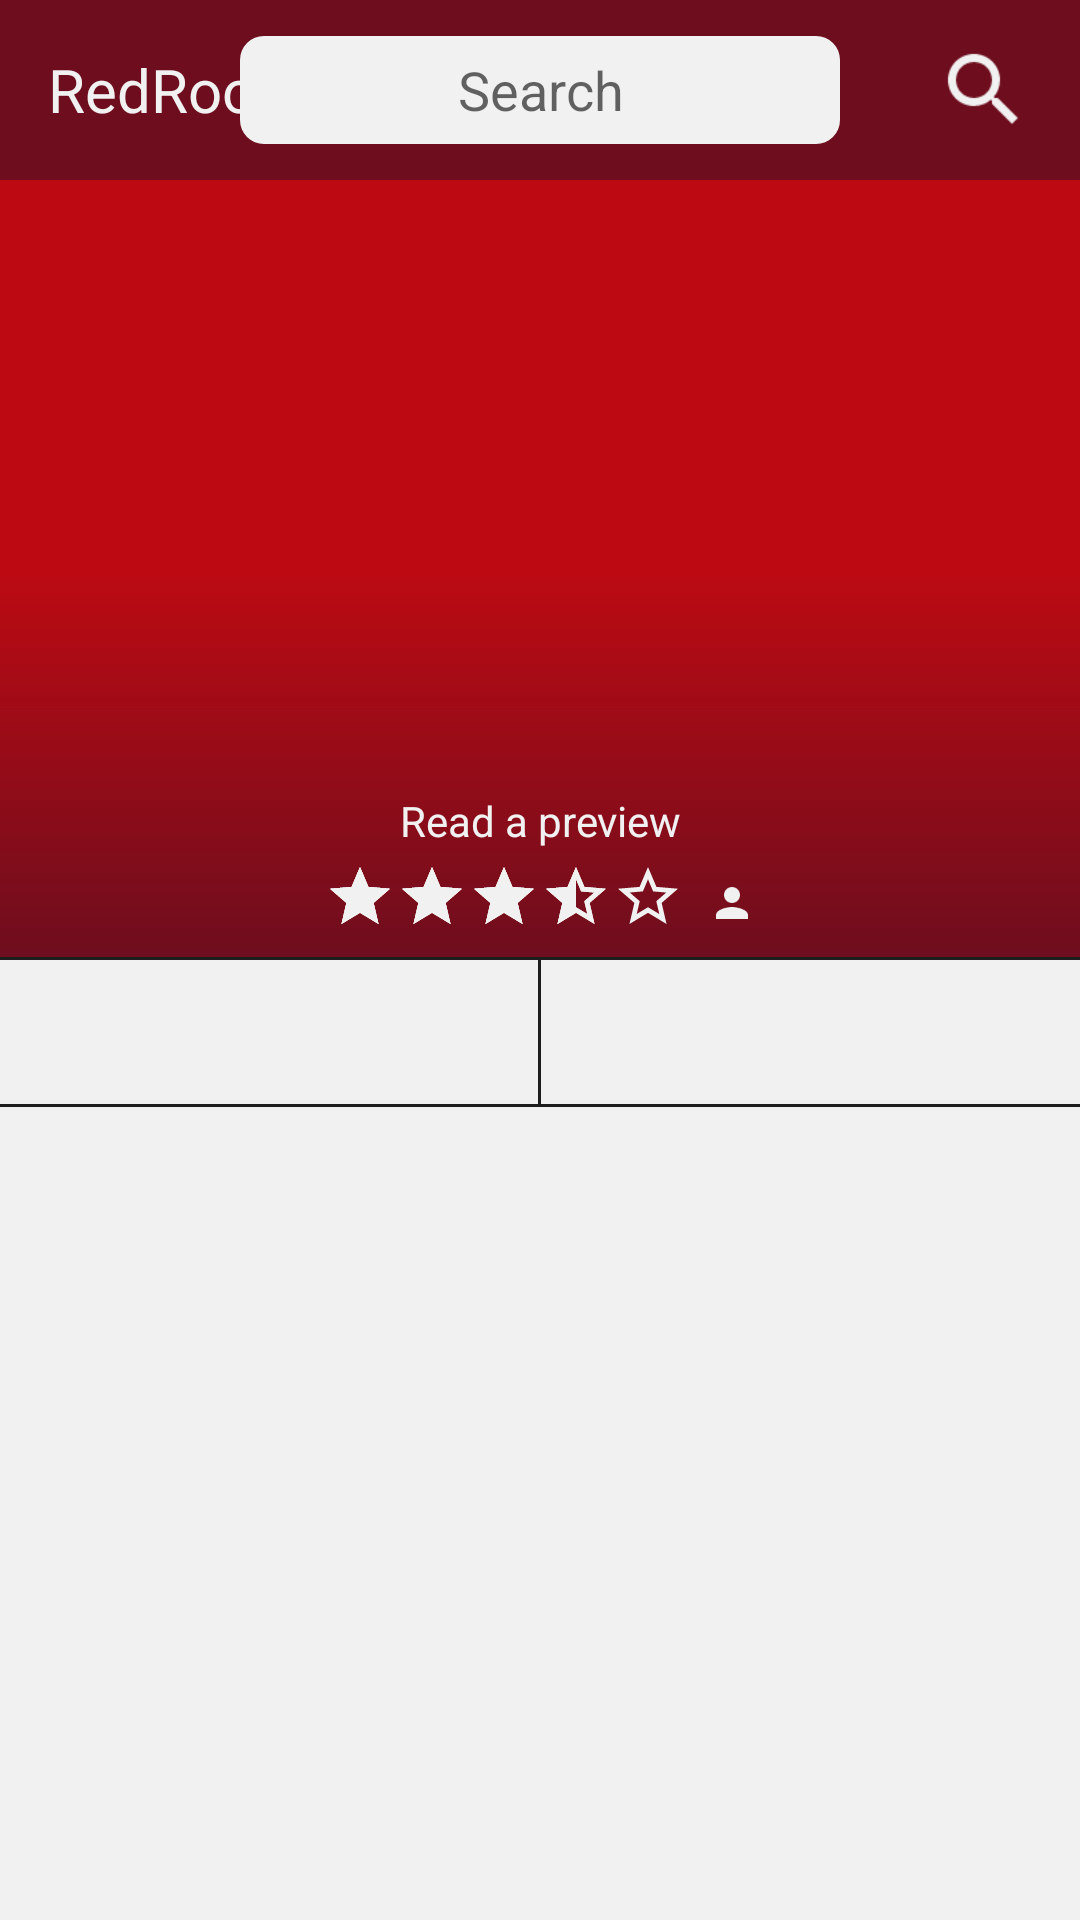

Where icons sit on this 1080w x 1920h app screen, as (x1, y1, x2, y2):
Person: (716, 887, 748, 919)
